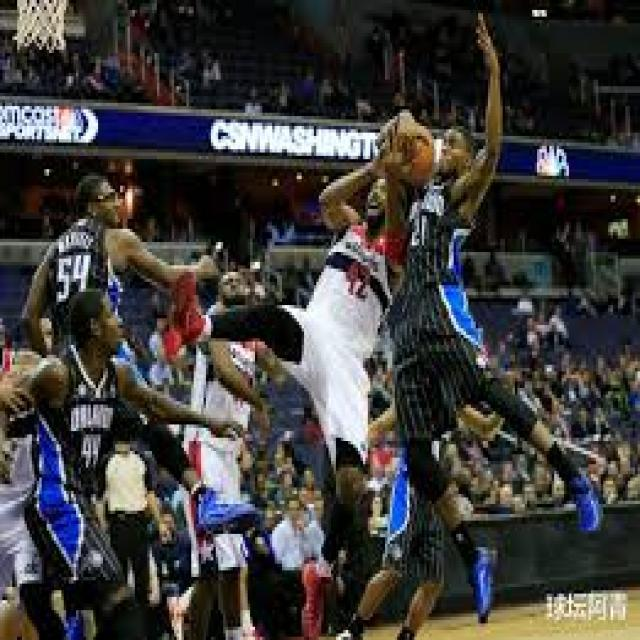rim: (387, 116, 434, 182)
